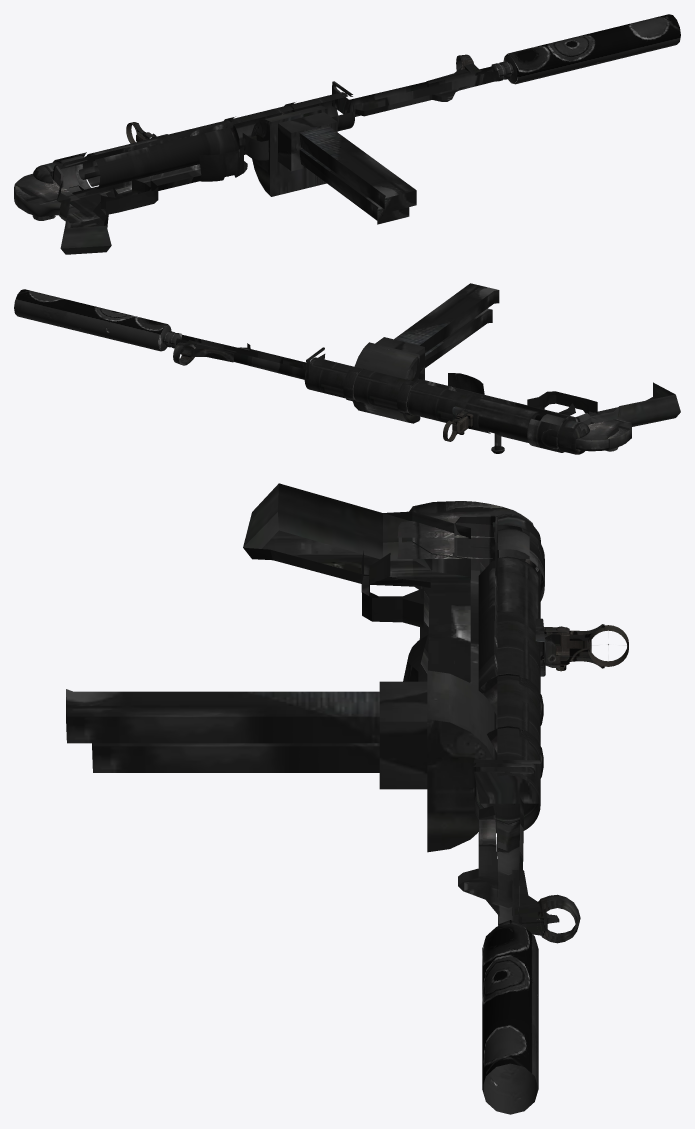
Rendered from viewmodel_mp_mp40.glb.
The picture shows the model from 3 angles, top to bottom: view 1: azimuth 30°, elevation 25°; view 2: azimuth 150°, elevation 25°; view 3: azimuth 270°, elevation 25°; orthographic projection. The views are drawn at different scales.
Parts seen in each view (by area): view 1: viewmodel_mp_mp40; view 2: viewmodel_mp_mp40; view 3: viewmodel_mp_mp40.
Part boxes in pixels (x1,y1,x2,y2): viewmodel_mp_mp40: [14, 14, 680, 254]; viewmodel_mp_mp40: [14, 283, 680, 454]; viewmodel_mp_mp40: [66, 483, 628, 1114].
Bounding box in the file's own units: 0.8499 × 0.0899 × 0.3445.
5 materials, 5 textured.
